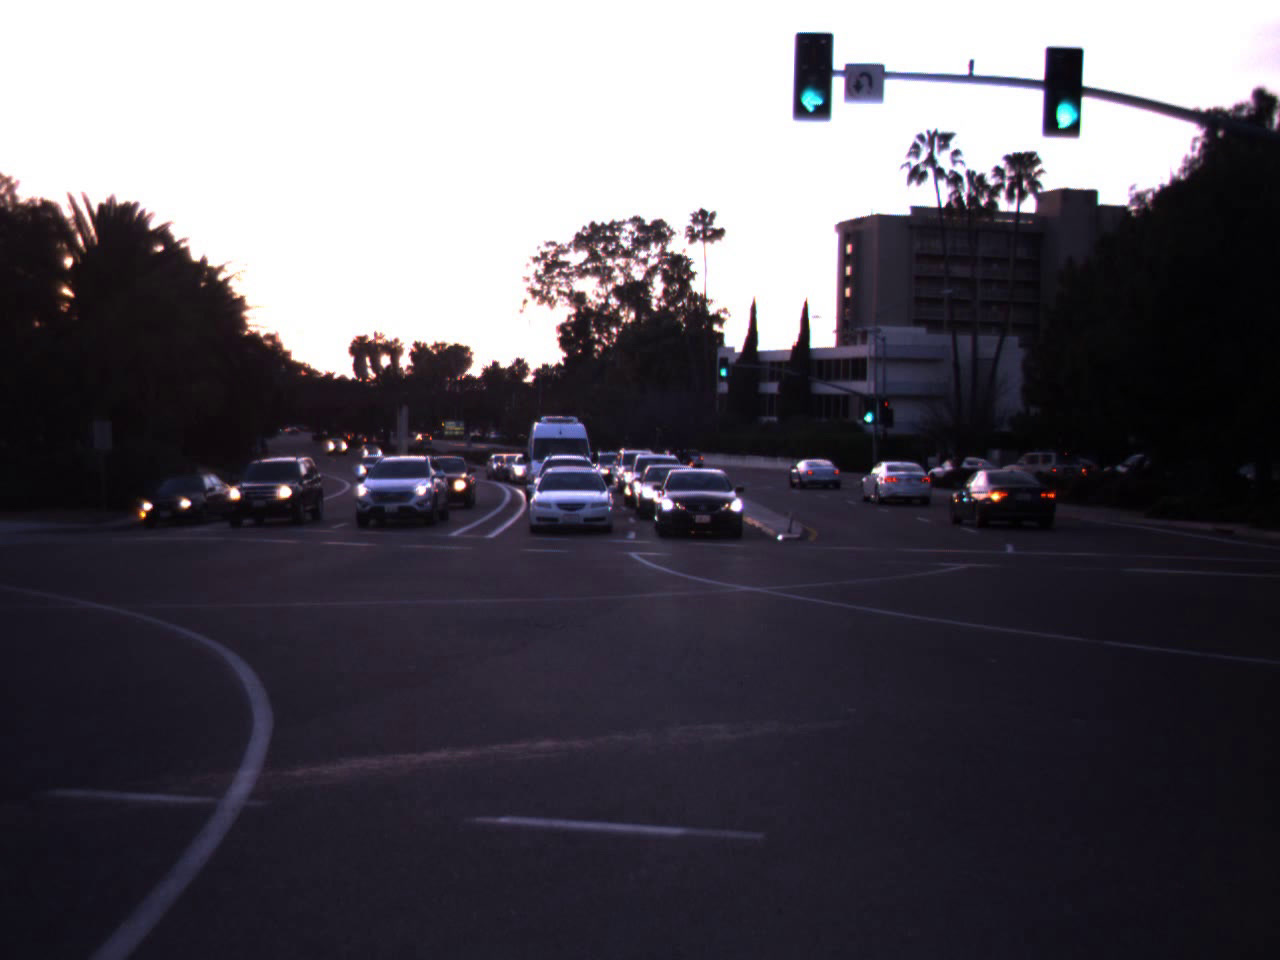go: (772, 0, 853, 124), (1040, 27, 1094, 137), (858, 388, 879, 423), (718, 355, 730, 375)
